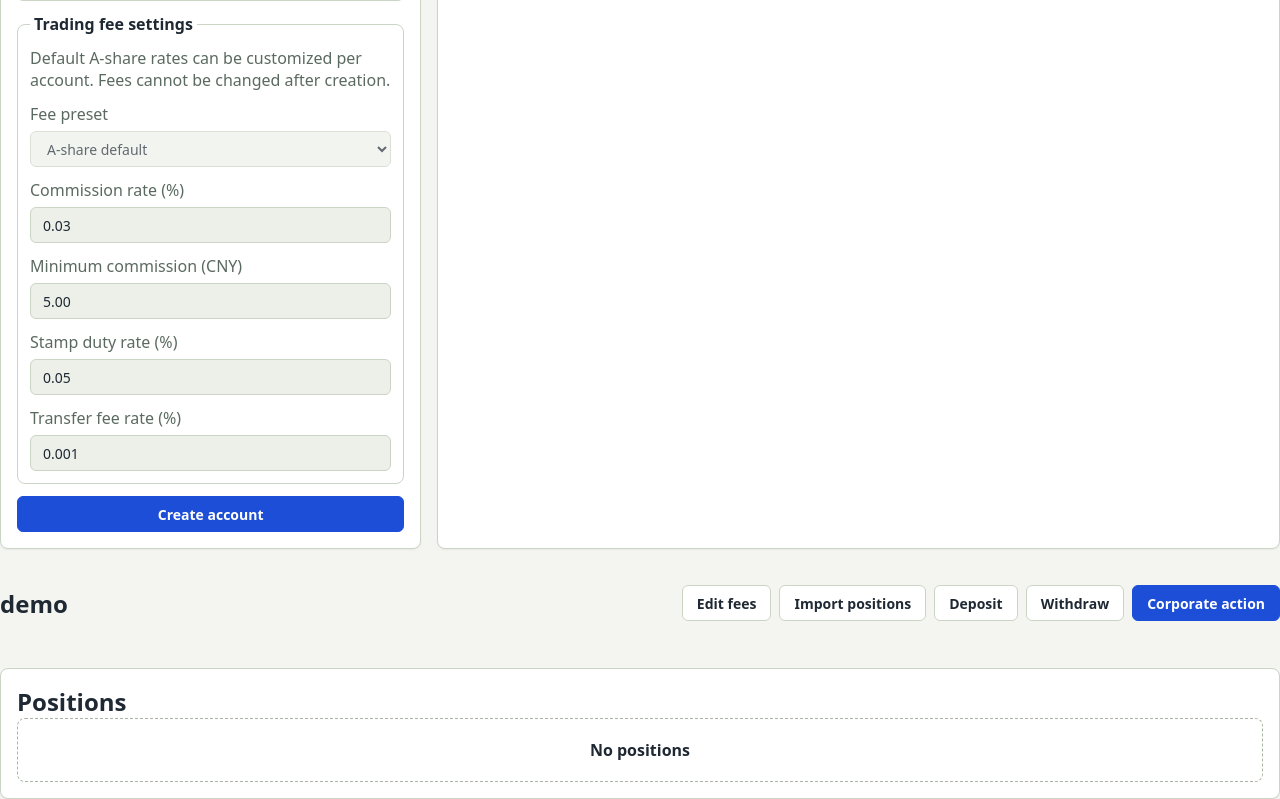
Test: AccountsPage › displays decimal rate 0.0057 as percent 0.57 in the fee editor
(page scrolled)
Click the button "Edit fees" at point(727, 603), box [682,585,772,621]
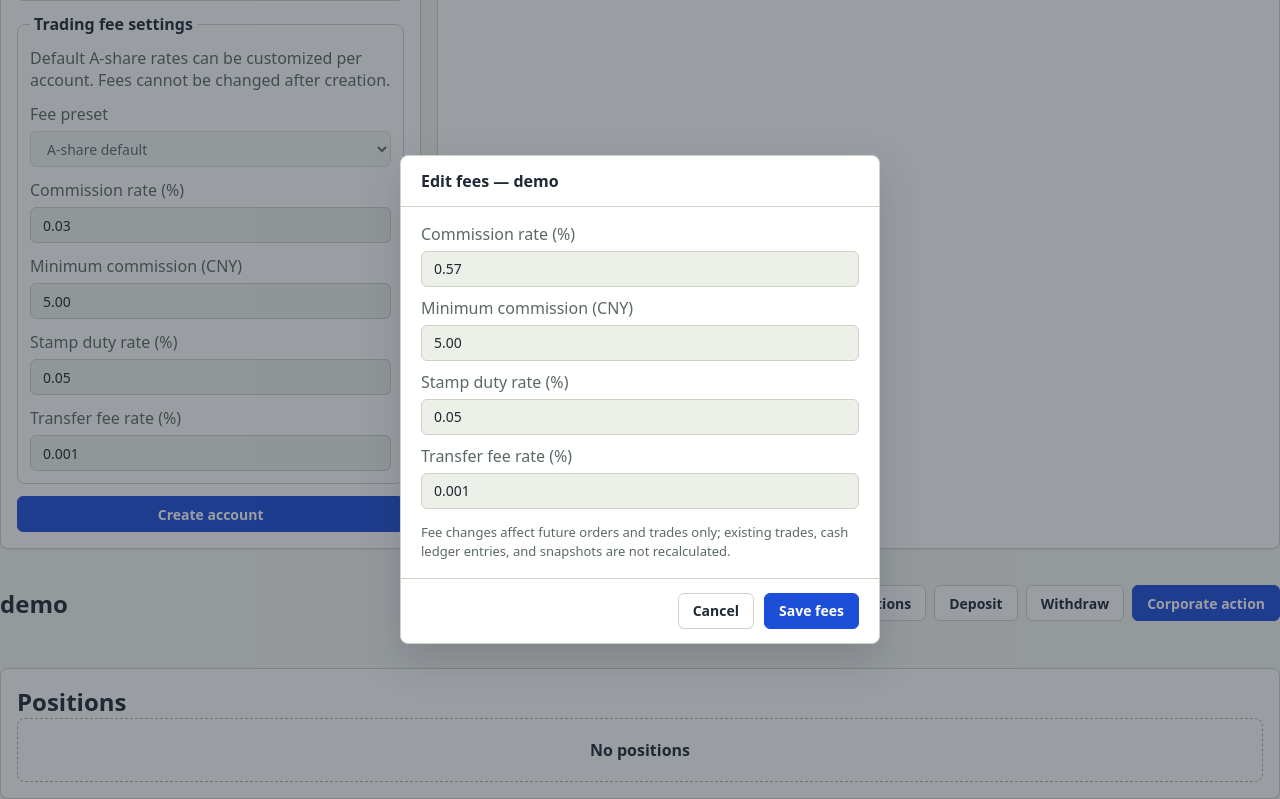
Expected: the field labelled "Commission rate (%)" holds "0.57", [421,250,859,286]
